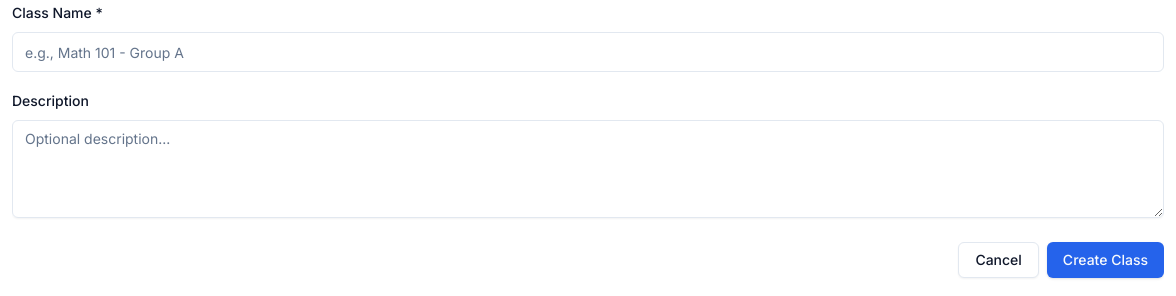
Scenario: CreateClassForm › shows loading state during submission
The width and height of the screenshot is (1176, 296).
Type "Math 101" into the field labelled "Class Name *" at {"x": 588, "y": 52}, box [12,32,1164,72]
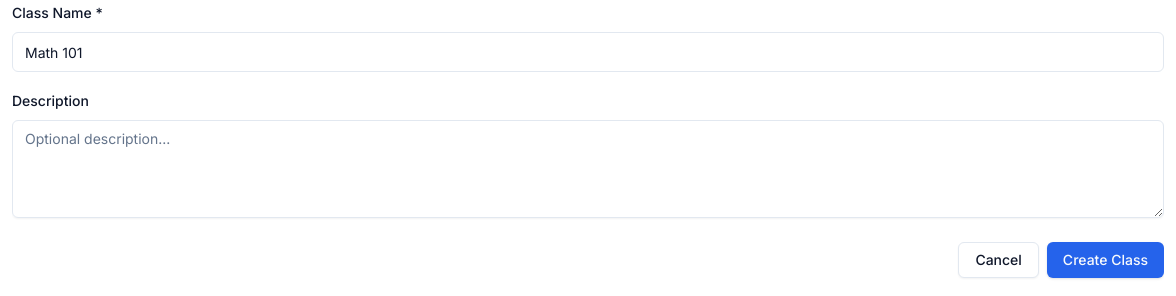
Click the button "Create Class" at {"x": 1105, "y": 260}, box [1047,242,1164,278]
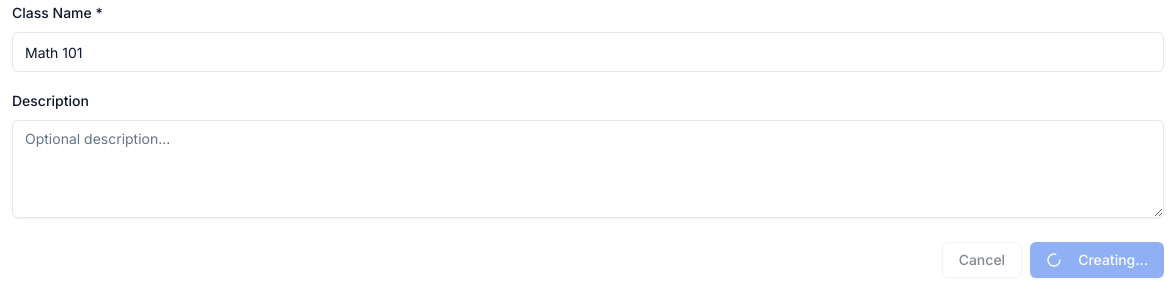
Result: the button named "create class" is disabled at [1030,242,1164,278]
